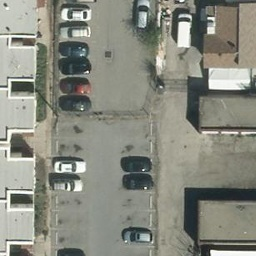car: (167, 8, 201, 42), (60, 15, 94, 49), (59, 32, 93, 66), (60, 49, 94, 83), (60, 69, 94, 103), (60, 89, 94, 123), (119, 149, 153, 183), (49, 150, 83, 184), (122, 163, 156, 197), (49, 170, 83, 204), (122, 218, 156, 252), (126, 0, 160, 33), (60, 0, 94, 31), (63, 0, 97, 14)
